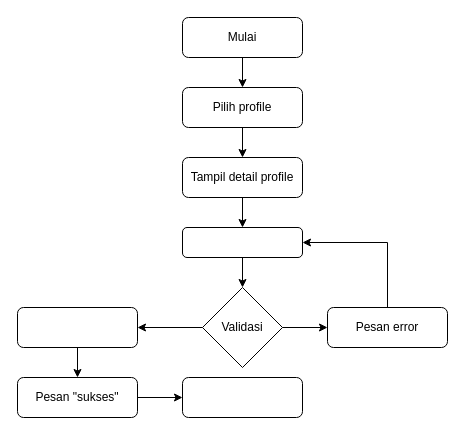
This 465x435 diagram has some shape labels left out. The centre of each missing label's shape, as x and y in pixels:
End: the point at 242,397
Sistem menyimpan detail profile: the point at 77,327
Update profile: the point at 242,242
